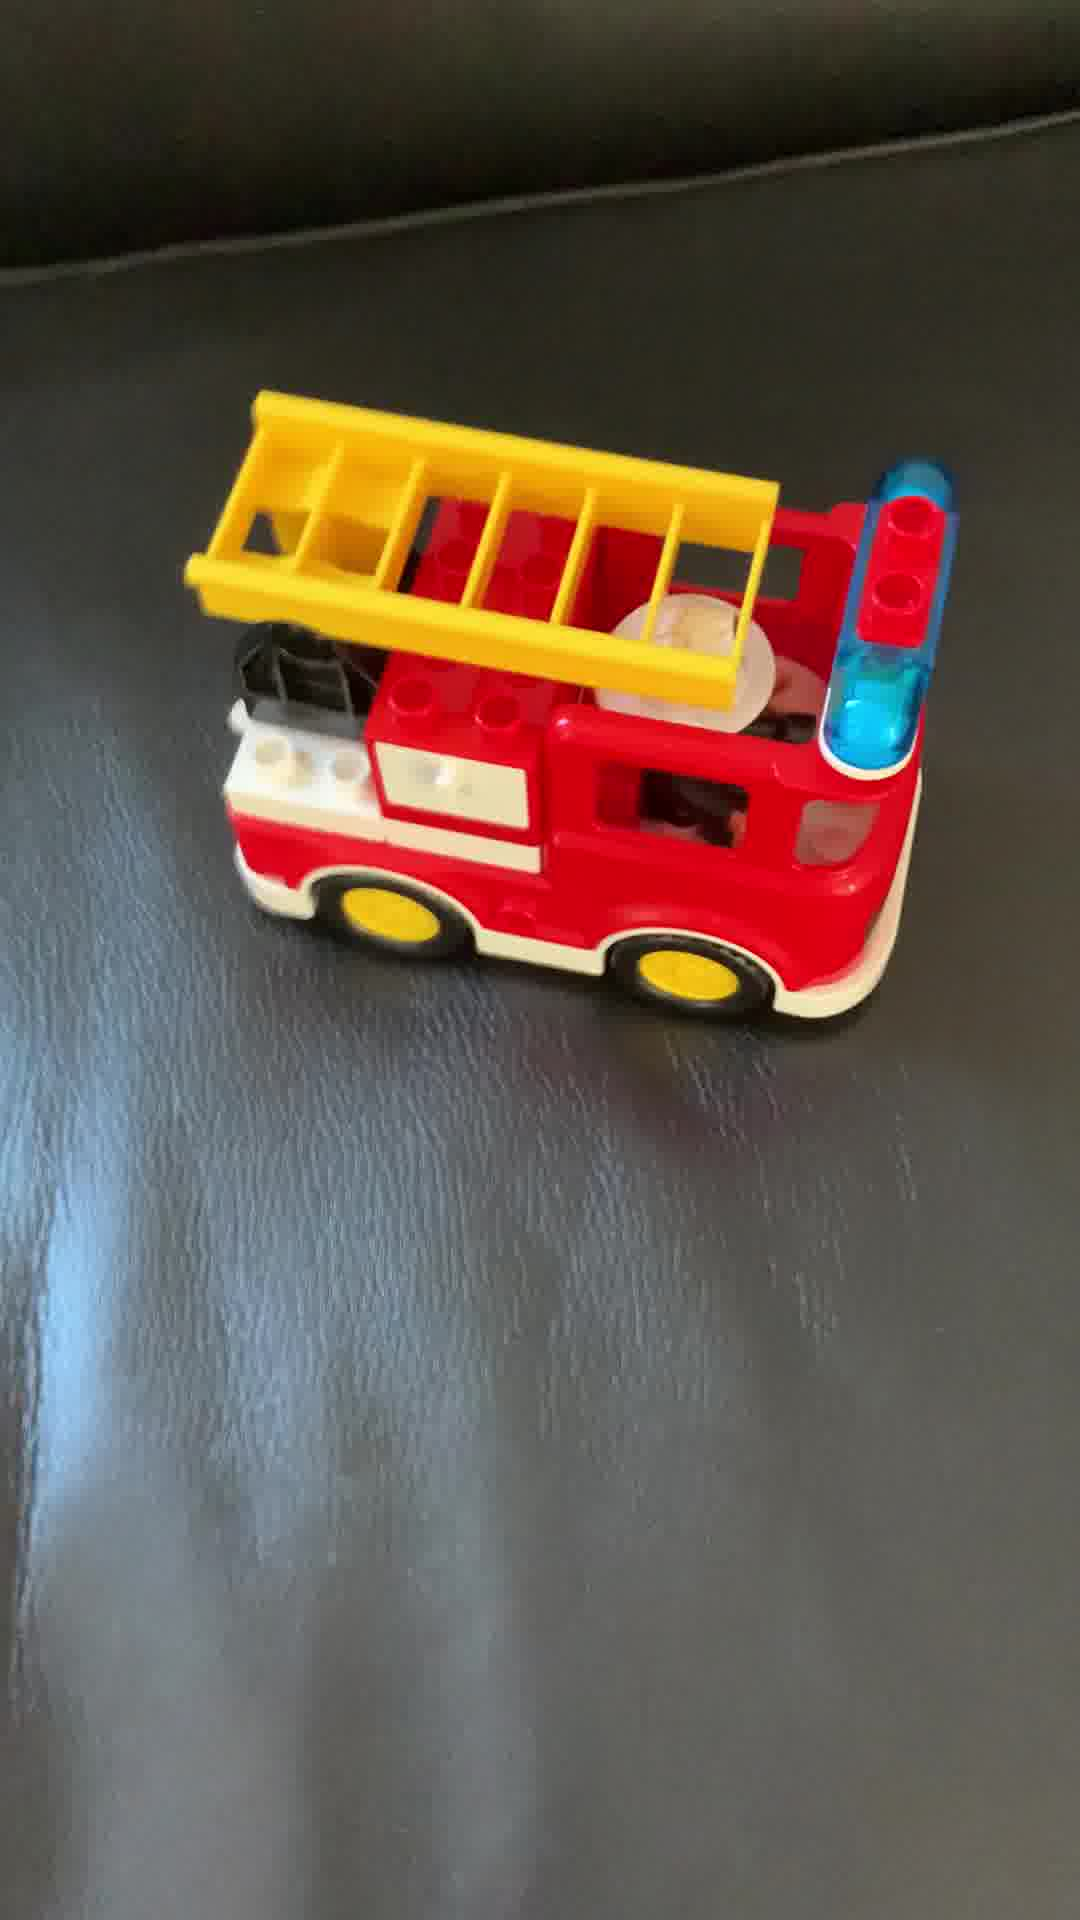lego fire truck: (167, 373, 969, 1035)
